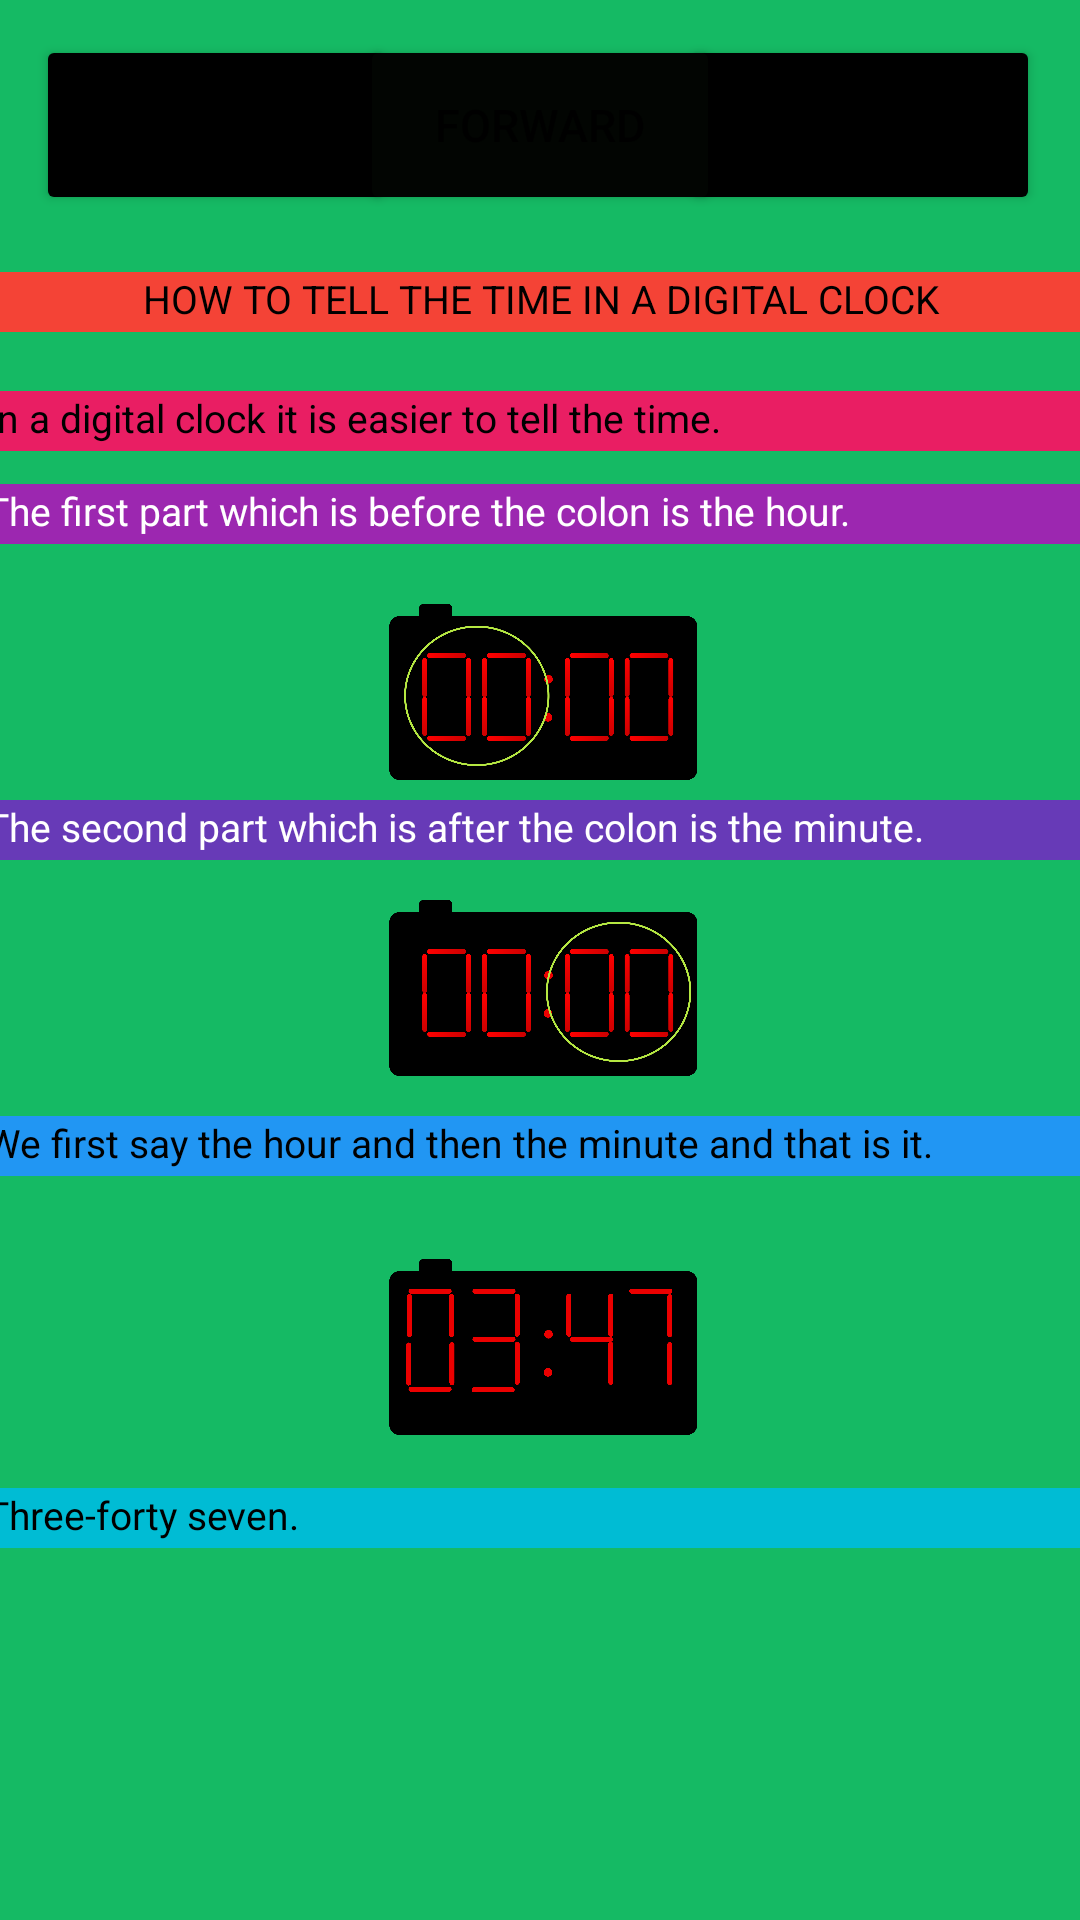

Locate icon controls on the screen. Image size 1080 x 1920, boxes as bbox=(x1, y1, x2, y2).
digi clo hour: bbox=(389, 604, 697, 780)
